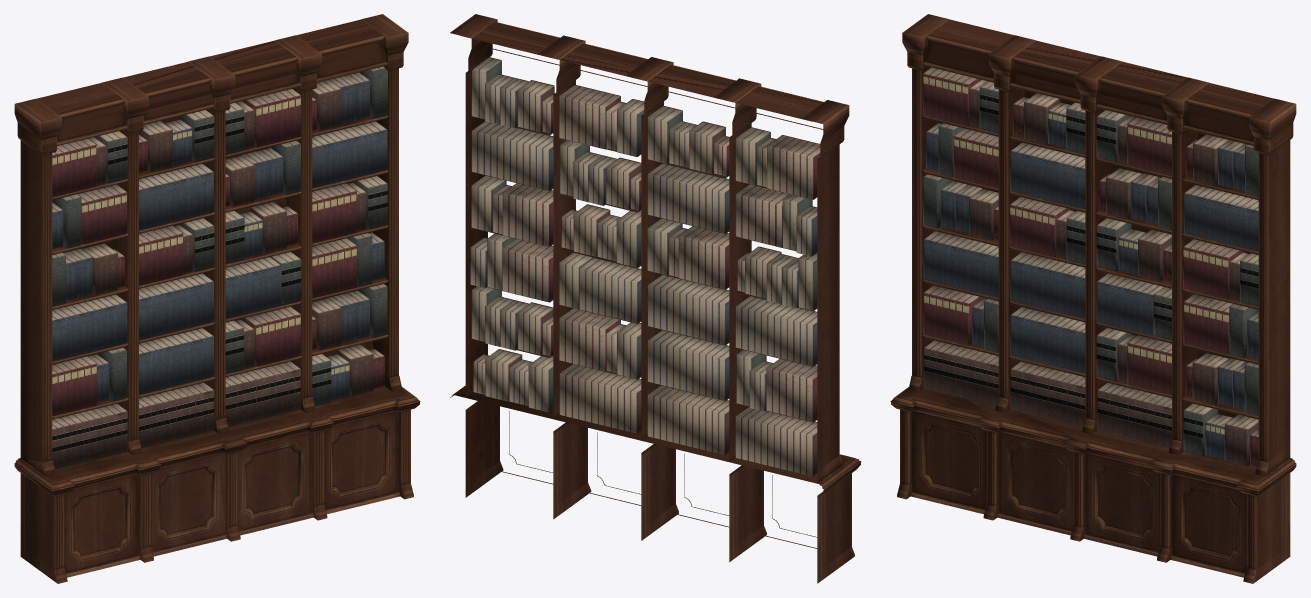
The model's file is bookshelf_antique_drago.glb.
3 renders of one model, left to right at view 1: azimuth 30°, elevation 25°; view 2: azimuth 150°, elevation 25°; view 3: azimuth 330°, elevation 25°, orthographic.
Visible parts, largest first — view 1: bottom_lp.001_bookcase_0, Cube.026_book-stacks_0; view 2: Cube.026_book-stacks_0, bottom_lp.001_bookcase_0; view 3: bottom_lp.001_bookcase_0, Cube.026_book-stacks_0.
Part boxes in pixels (left/top/right/bottom): bottom_lp.001_bookcase_0: left=14, top=14, right=420, bottom=583; Cube.026_book-stacks_0: left=52, top=66, right=387, bottom=469; Cube.026_book-stacks_0: left=470, top=57, right=820, bottom=476; bottom_lp.001_bookcase_0: left=450, top=14, right=861, bottom=583; bottom_lp.001_bookcase_0: left=890, top=14, right=1296, bottom=583; Cube.026_book-stacks_0: left=923, top=67, right=1258, bottom=466.
Bounding box in the file's own units: 3.84 × 4.51 × 0.6784.
2 materials, 2 textured.
